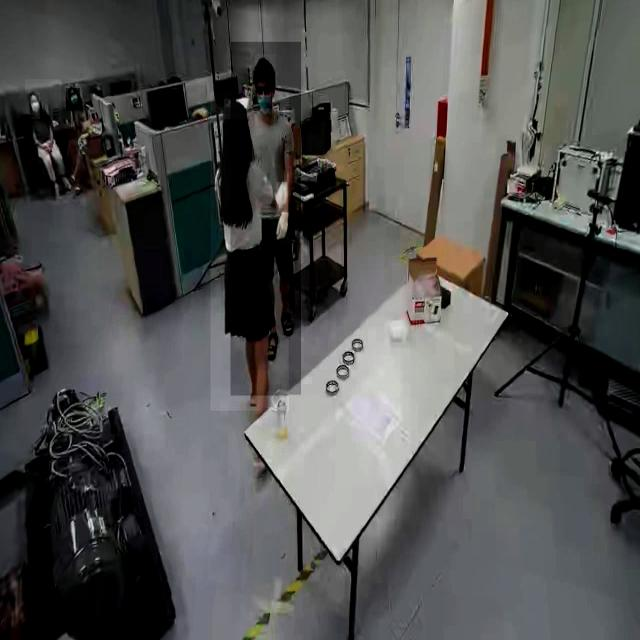face_mask: (252, 71, 272, 109), (66, 88, 80, 111), (32, 93, 40, 119)
hand_glove: (274, 212, 292, 245), (276, 182, 288, 214)
head_nohelmet: (224, 99, 248, 120), (254, 54, 276, 71), (68, 84, 78, 90), (28, 91, 38, 95)
person: (210, 91, 289, 412), (231, 42, 301, 396), (24, 79, 62, 199)
